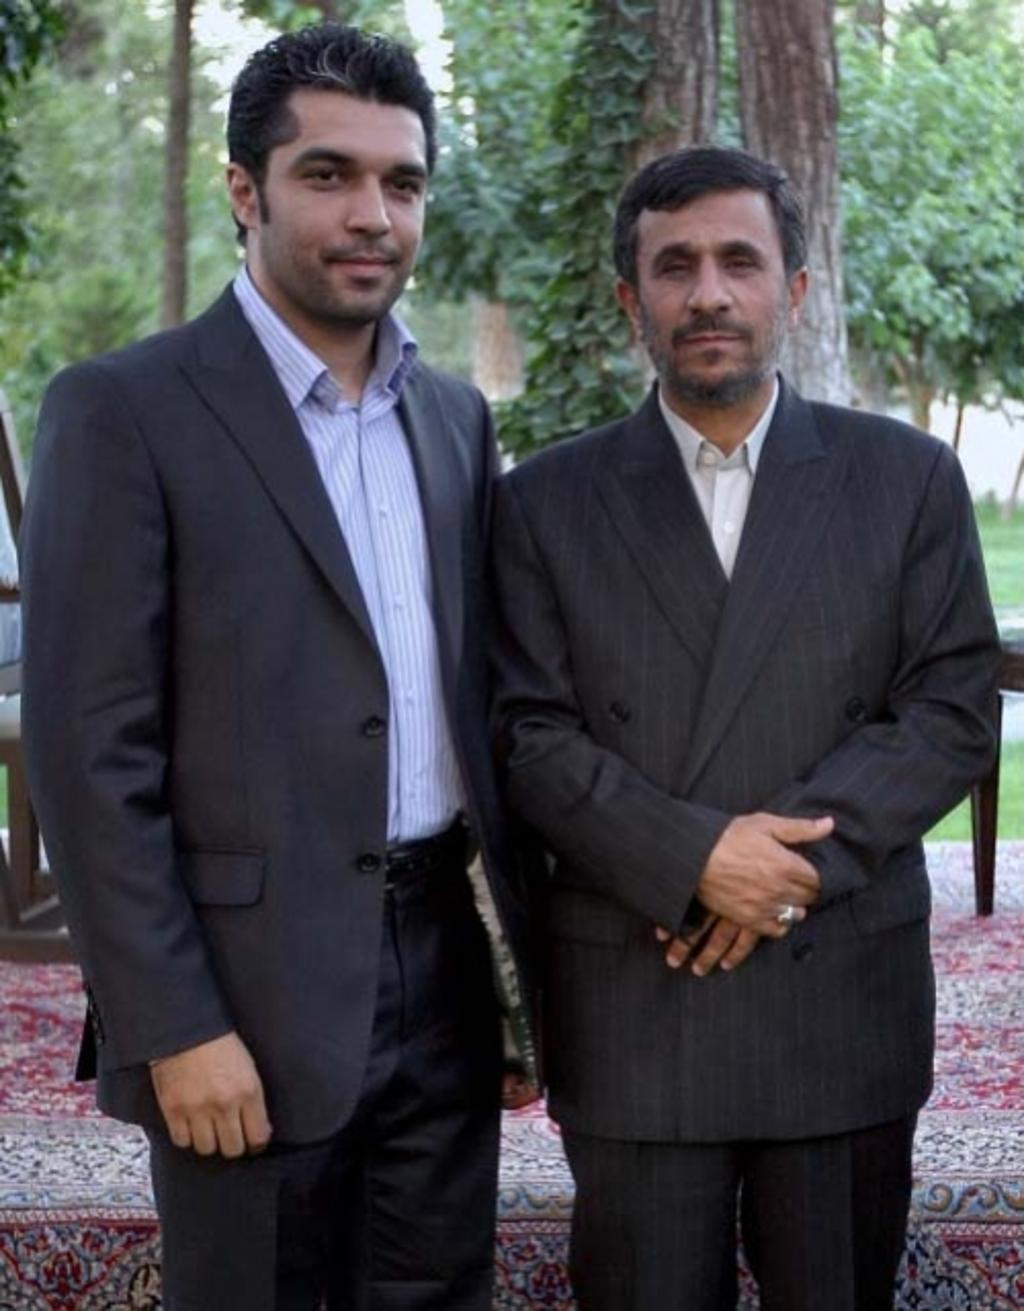face: (276, 92, 422, 312), (653, 179, 786, 389)
